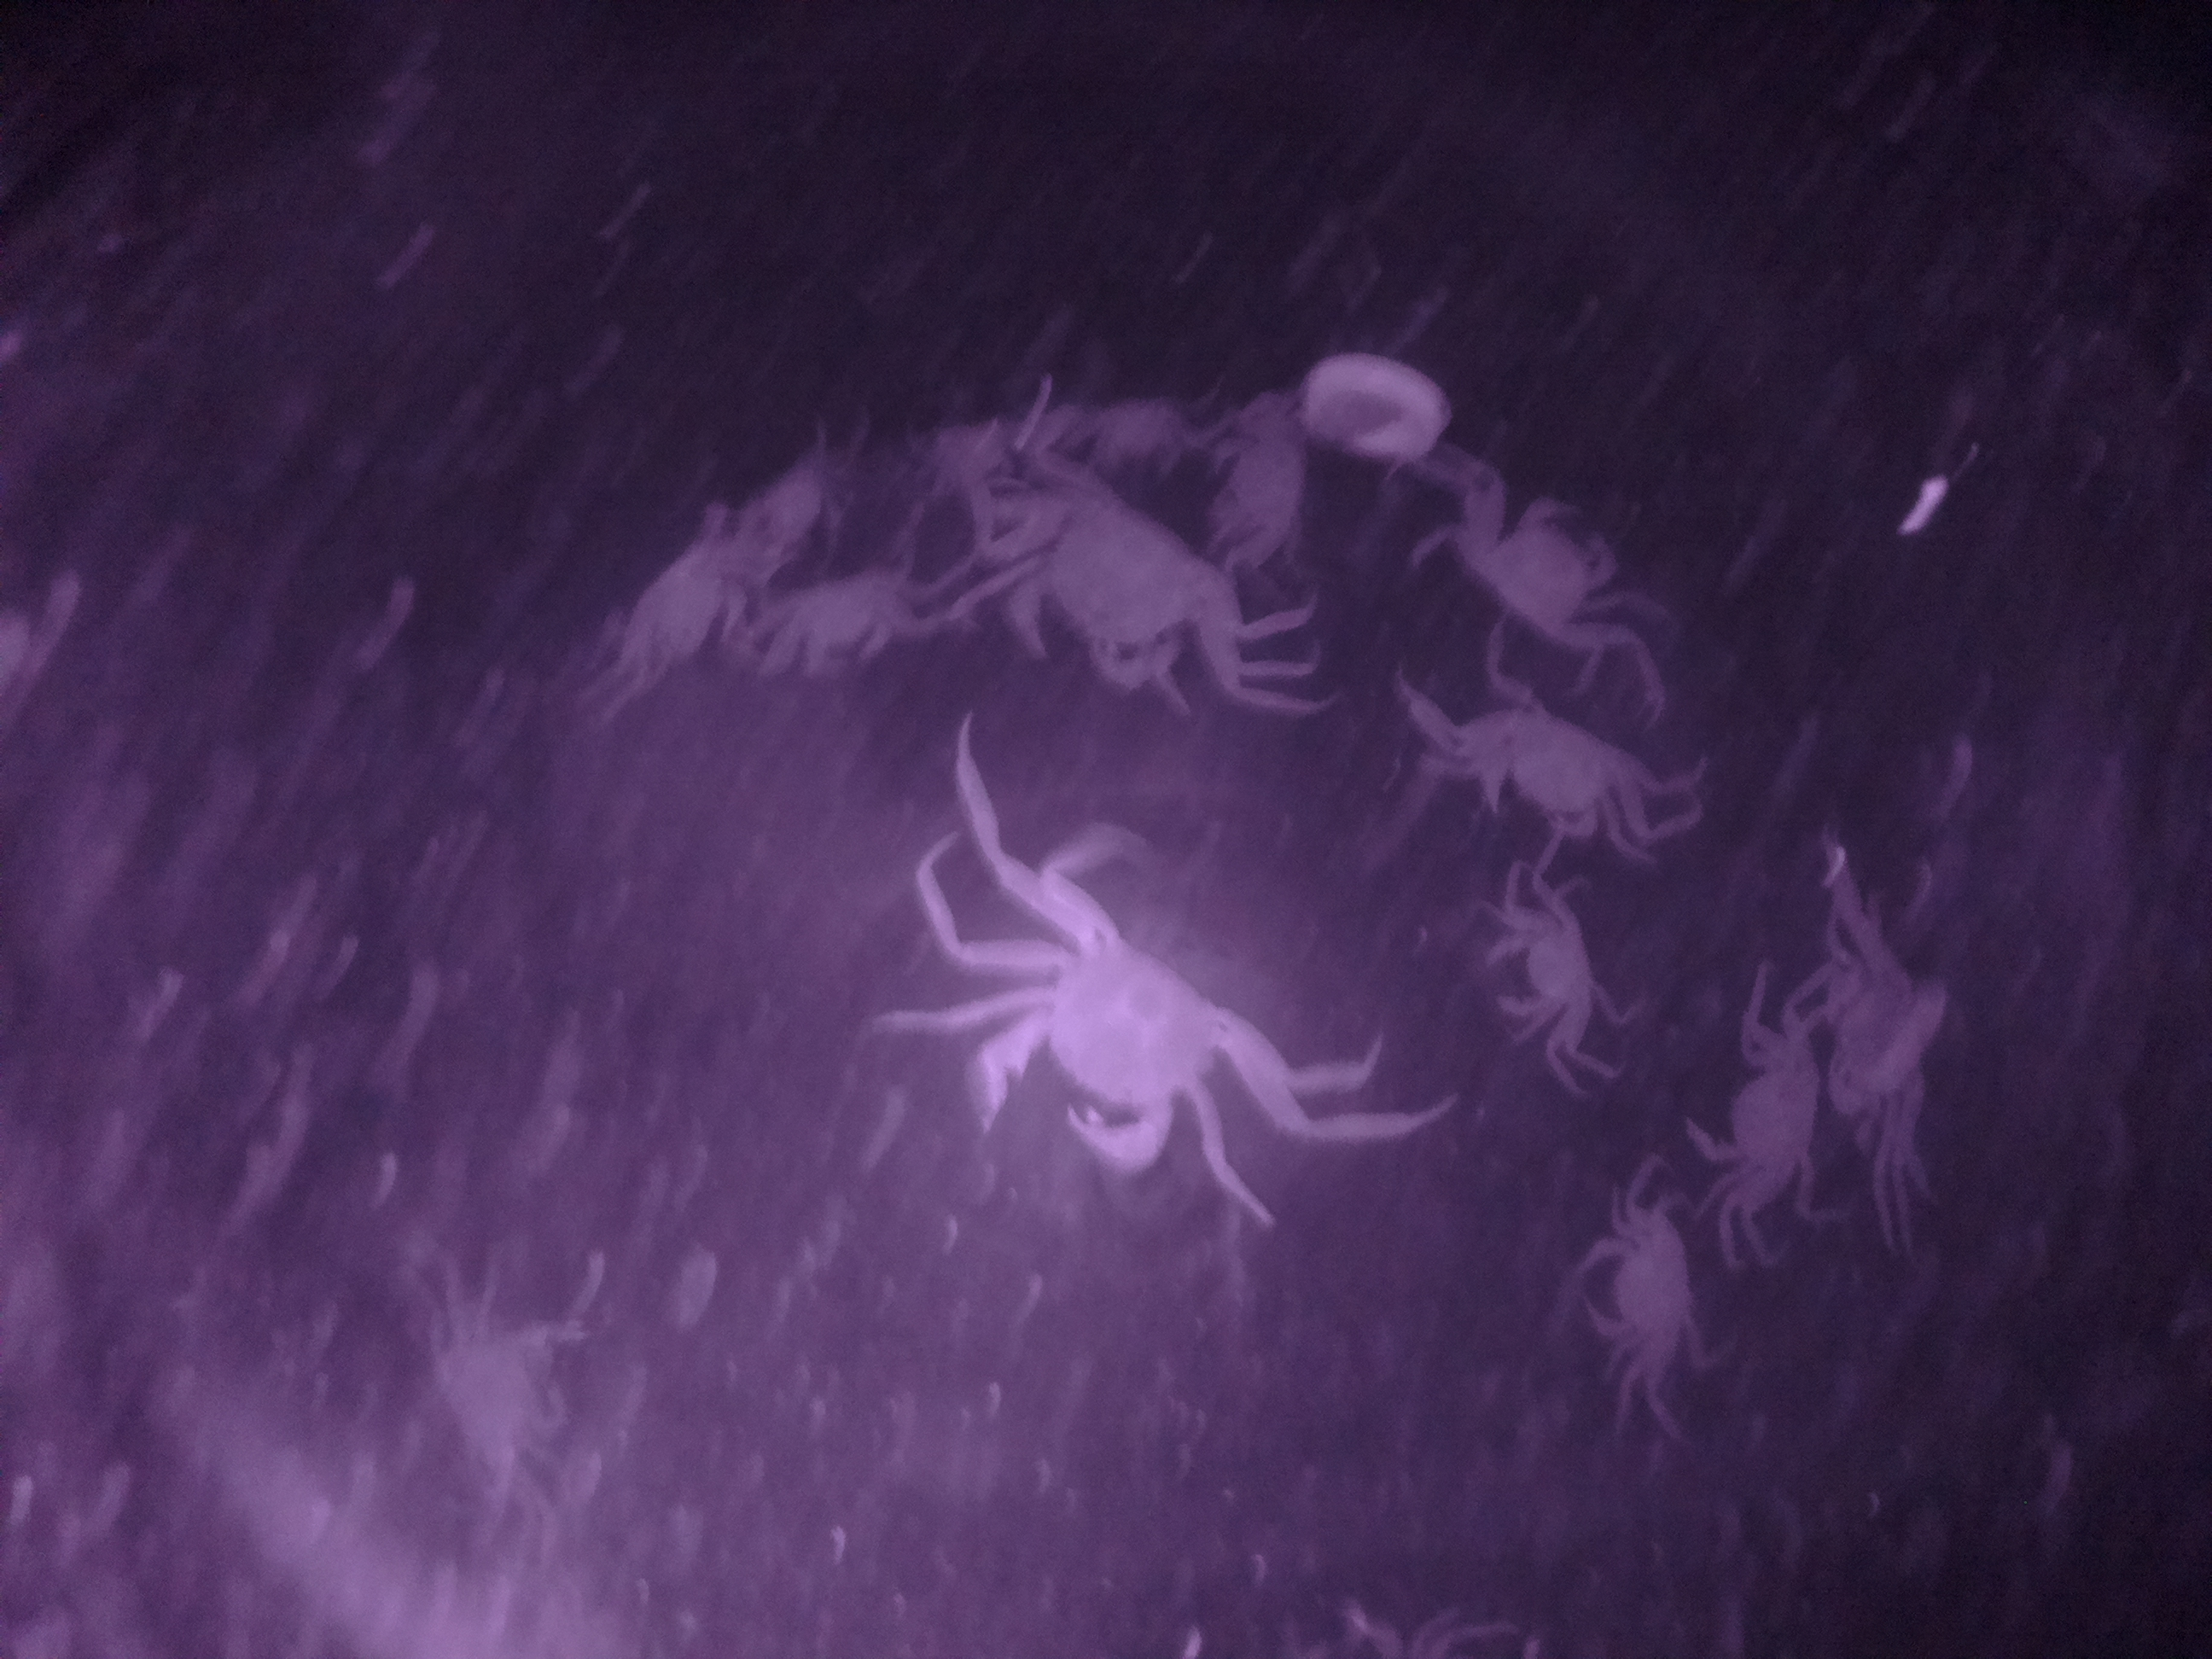Crab: (949, 910, 1268, 1173), (996, 469, 1251, 708), (1428, 497, 1635, 647), (1456, 695, 1644, 854), (1677, 1028, 1841, 1176), (1484, 885, 1606, 1065), (1571, 1208, 1702, 1371)
